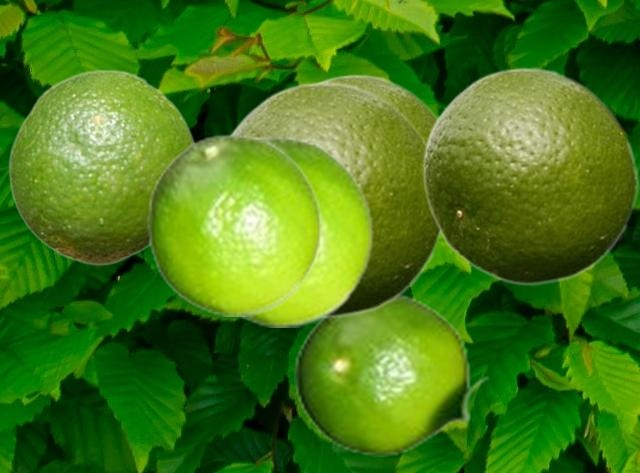calamansi: (229, 79, 440, 318), (422, 65, 638, 285), (8, 69, 194, 265), (293, 293, 490, 456), (147, 133, 322, 315), (232, 135, 373, 326), (316, 72, 436, 138)
